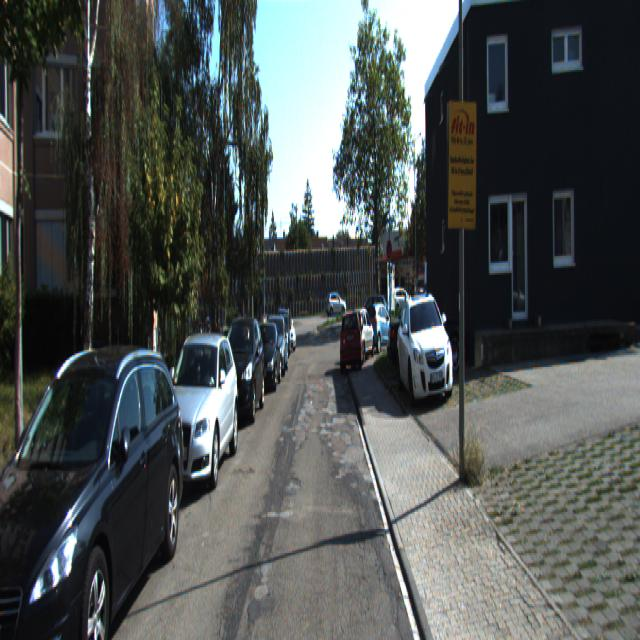Car: (0, 330, 187, 638), (152, 332, 239, 504), (395, 290, 455, 408), (387, 282, 466, 370), (215, 314, 265, 428), (251, 320, 282, 397), (338, 306, 364, 376), (262, 315, 288, 380), (346, 308, 375, 366), (363, 299, 393, 353), (326, 293, 346, 315)
